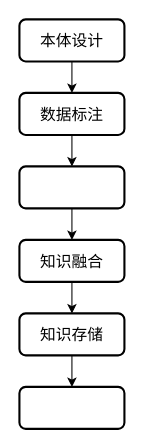
The diagram is 143 pixels wide and 447 high, and some of its shapes have lost their labels. Here are the shapes that lost their labels. From the top down, the centre of each, then its label:
[71,187]: 知识抽取
[71,407]: 可视化展示
